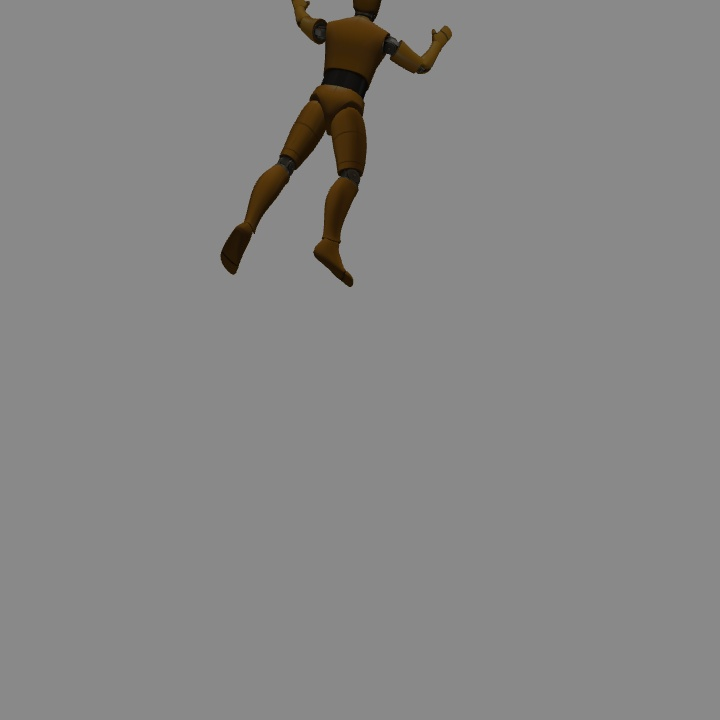victim: (218, 1, 450, 283)
